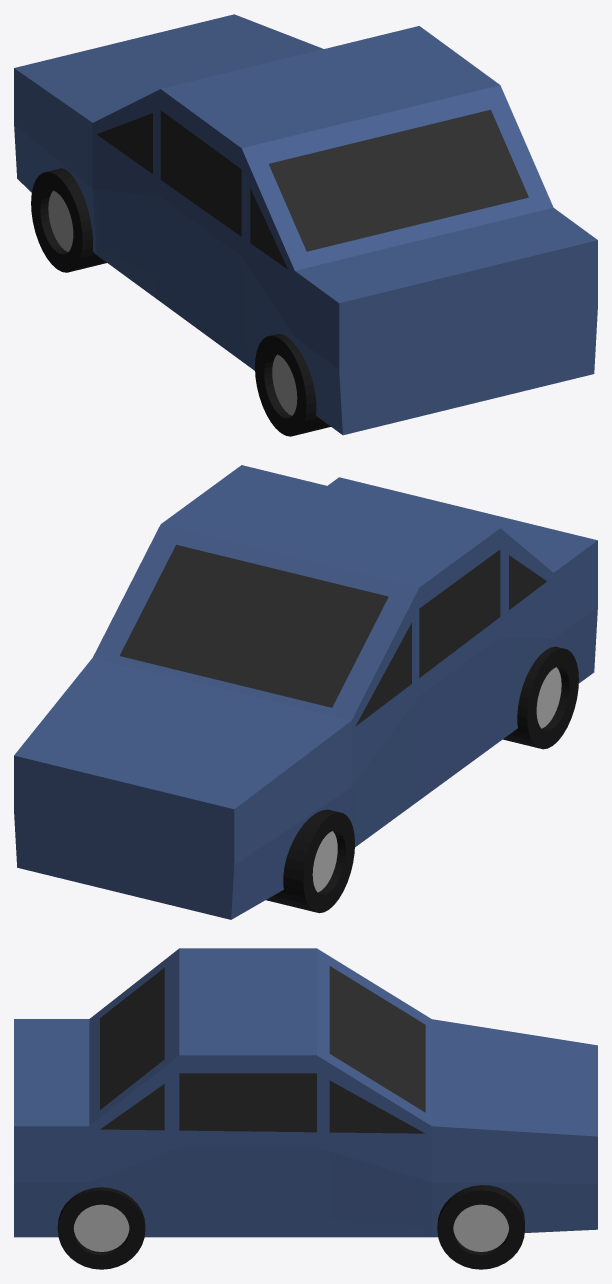
Rendered from car.gltf.
The picture shows the model from 3 angles, top to bottom: view 1: azimuth 30°, elevation 25°; view 2: azimuth 150°, elevation 25°; view 3: azimuth 270°, elevation 25°; orthographic projection. The views are drawn at different scales.
Parts seen in each view (by area): view 1: Cube, Cube.001; view 2: Cube, Cube.001; view 3: Cube, Cube.001.
Boxes of the visible parts, x1,y1,x2,y2 form: Cube: (14, 14, 597, 435); Cube.001: (31, 168, 330, 436); Cube: (14, 465, 597, 919); Cube.001: (266, 646, 578, 913); Cube: (14, 948, 597, 1237); Cube.001: (57, 1185, 524, 1269).
Size of the model in its own units: 1.83 by 1.6 by 4.
